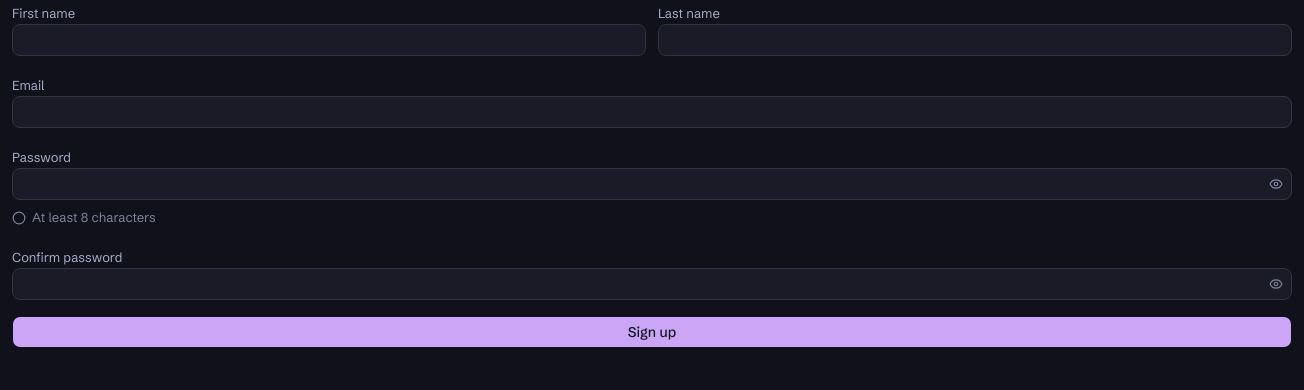
Test: SignupForm › disables the submit button while the request is pending
This screenshot has width=1304, height=390.
Type "Ada" into the field labelled "First name". click: (329, 40)
box: [12,24,646,56]
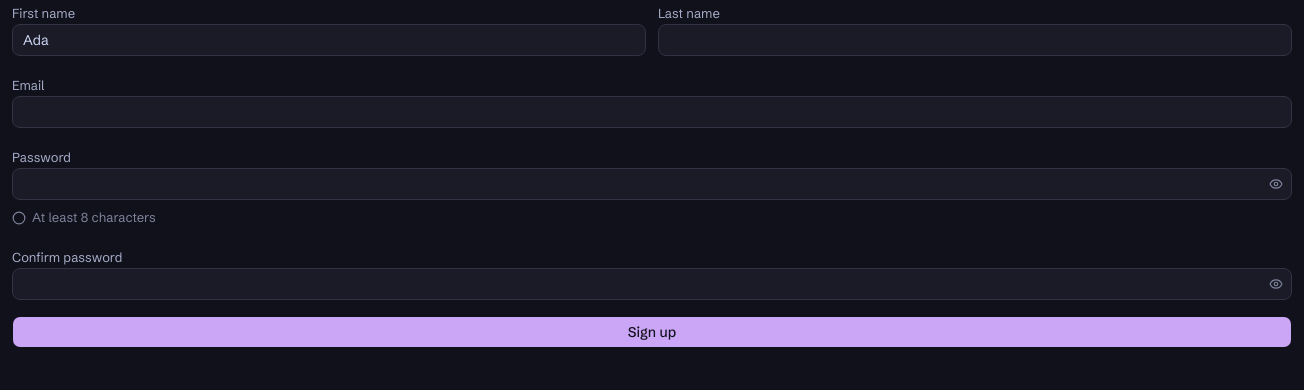
Type "Lovelace" into the field labelled "Last name". click: (975, 40)
box: [658,24,1292,56]
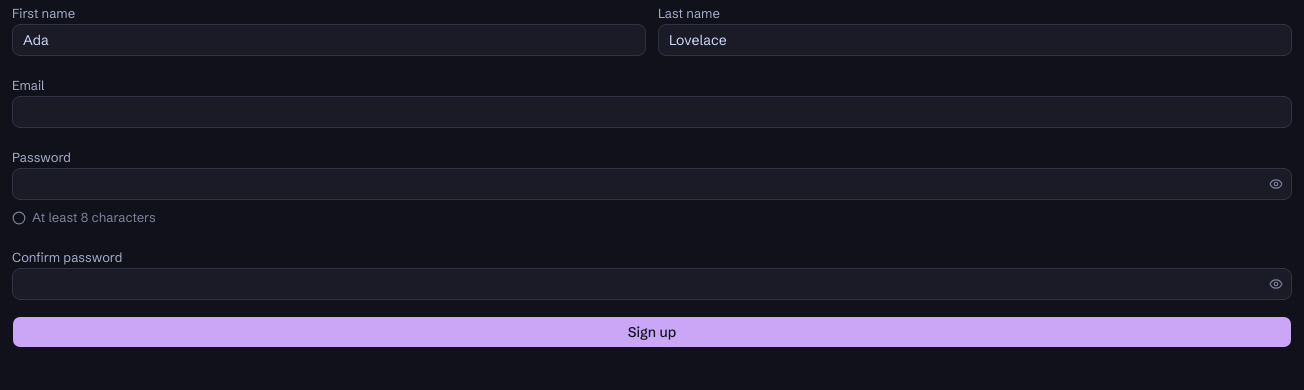
Type "new@example.com" into the field labelled "Email". click: (652, 112)
box: [12,96,1292,128]
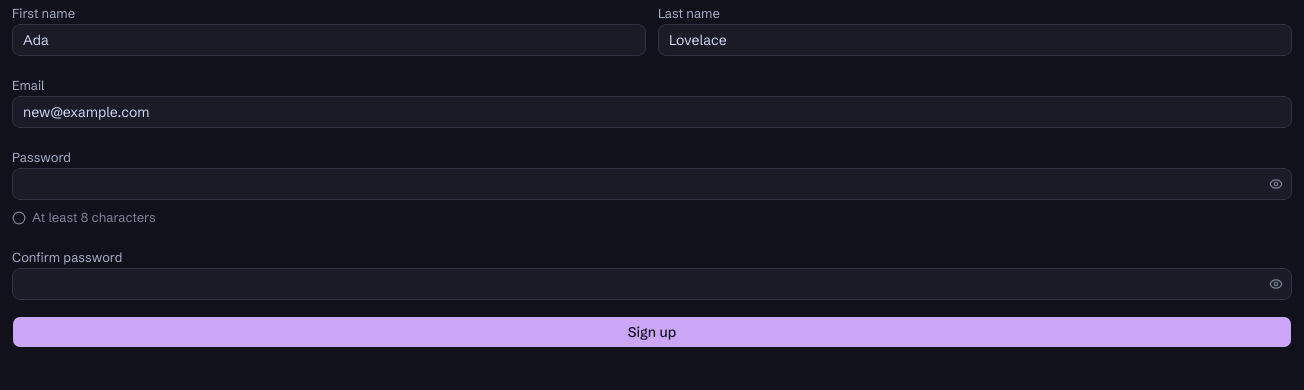
Type "correct horse" into the password field labelled "Password". click: (638, 184)
box: [13,168,1264,200]
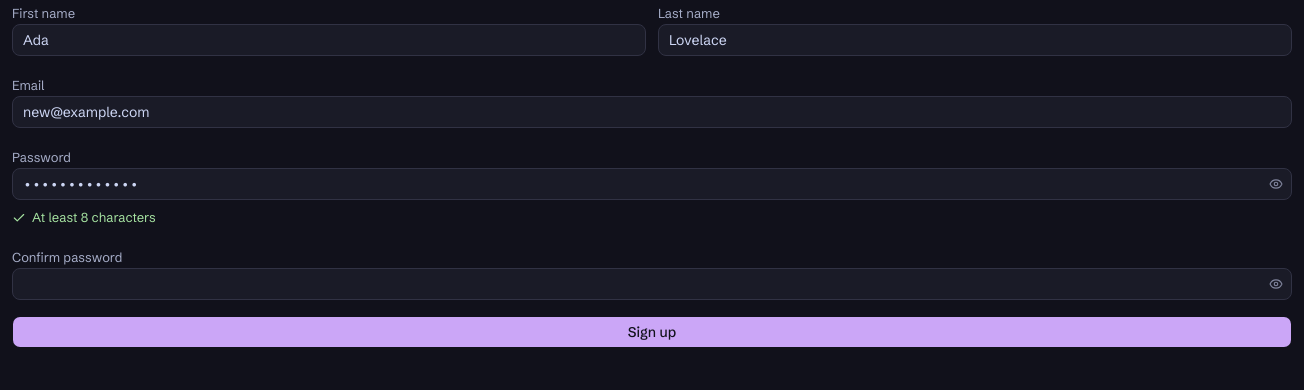
Type "correct horse" into the password field labelled "Confirm password". click: (638, 284)
box: [13,268,1264,300]
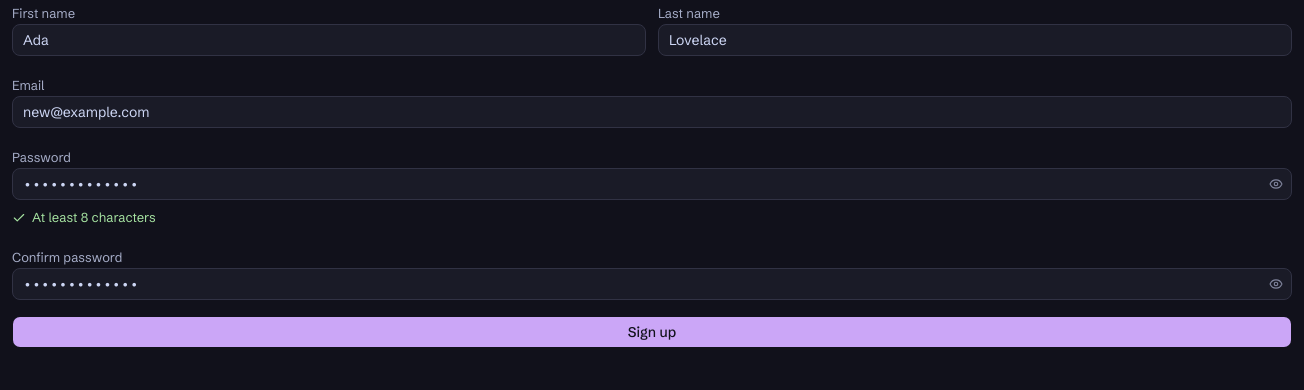
Click the button "Sign up". click: (652, 332)
box: [12,316,1292,348]
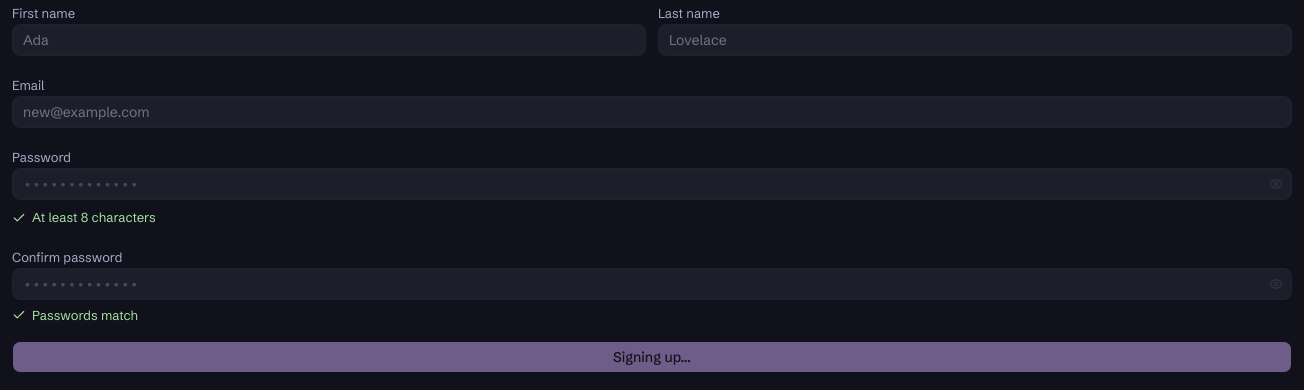
Check: the button "Signing up…" is disabled, box [12,341,1292,373]
